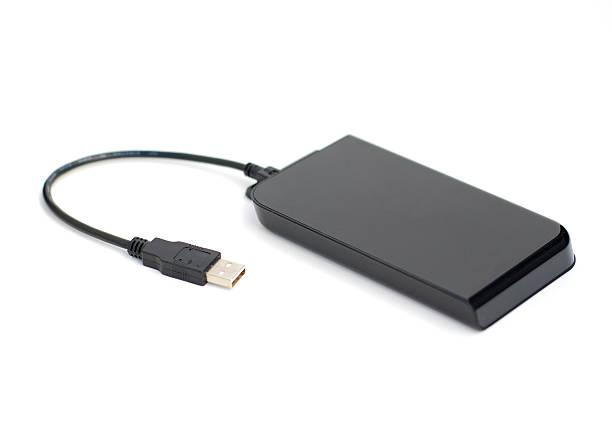HDD: (245, 135, 578, 333)
